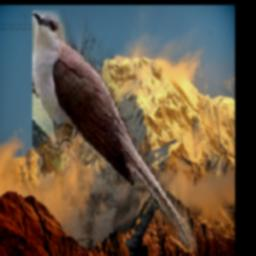Cuckoo: (33, 11, 198, 254)
